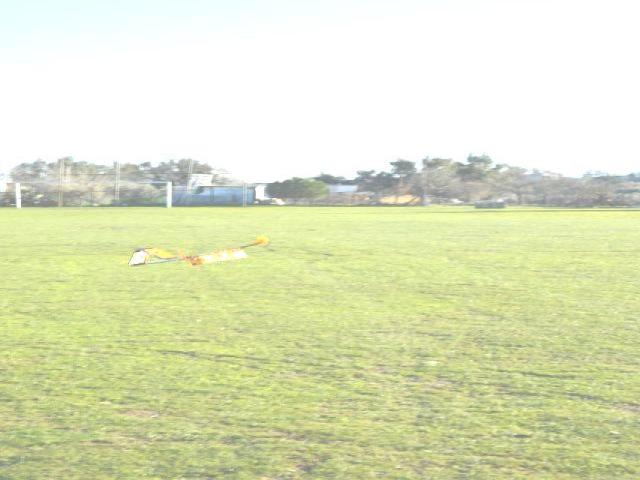iha: (126, 231, 272, 265)
